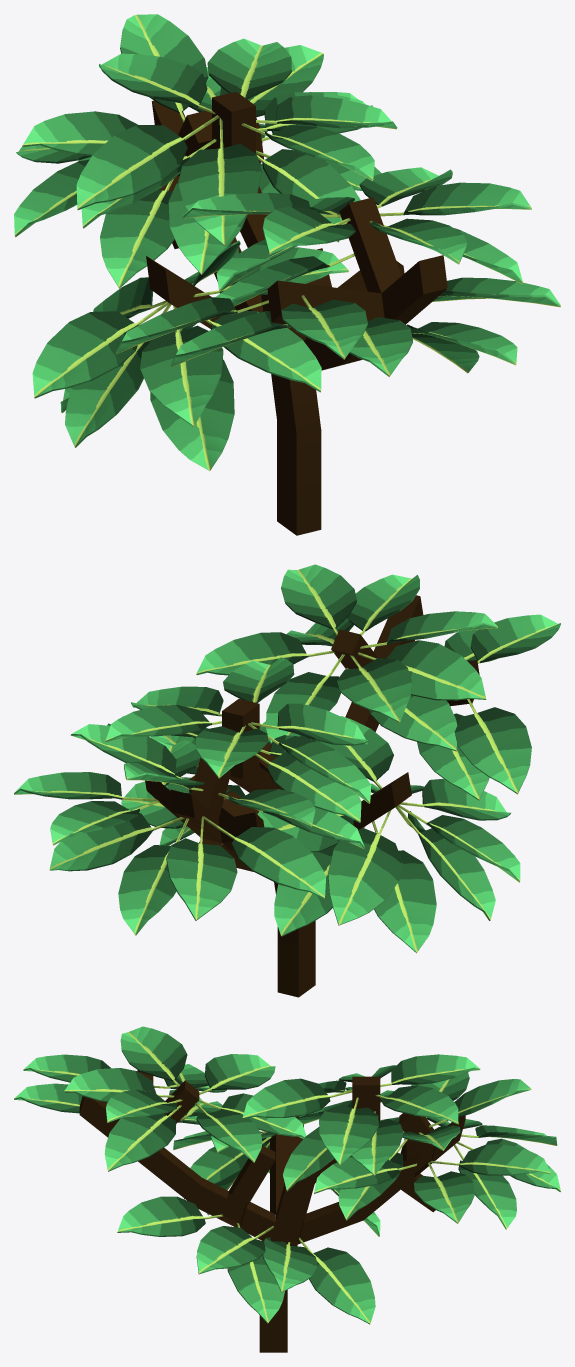
File: shrub_final.fbx
The picture shows the model from 3 angles, top to bottom: view 1: azimuth 30°, elevation 25°; view 2: azimuth 150°, elevation 25°; view 3: azimuth 270°, elevation 25°; orthographic projection. The views are drawn at different scales.
Parts seen in each view (by area): view 1: pCube2; view 2: pCube2; view 3: pCube2.
Part boxes in pixels (x1,y1,x2,y2): pCube2: (14, 14, 560, 535); pCube2: (14, 564, 560, 997); pCube2: (14, 1026, 560, 1352).
Size of the model in its own units: 4.91 by 3.88 by 6.93.
